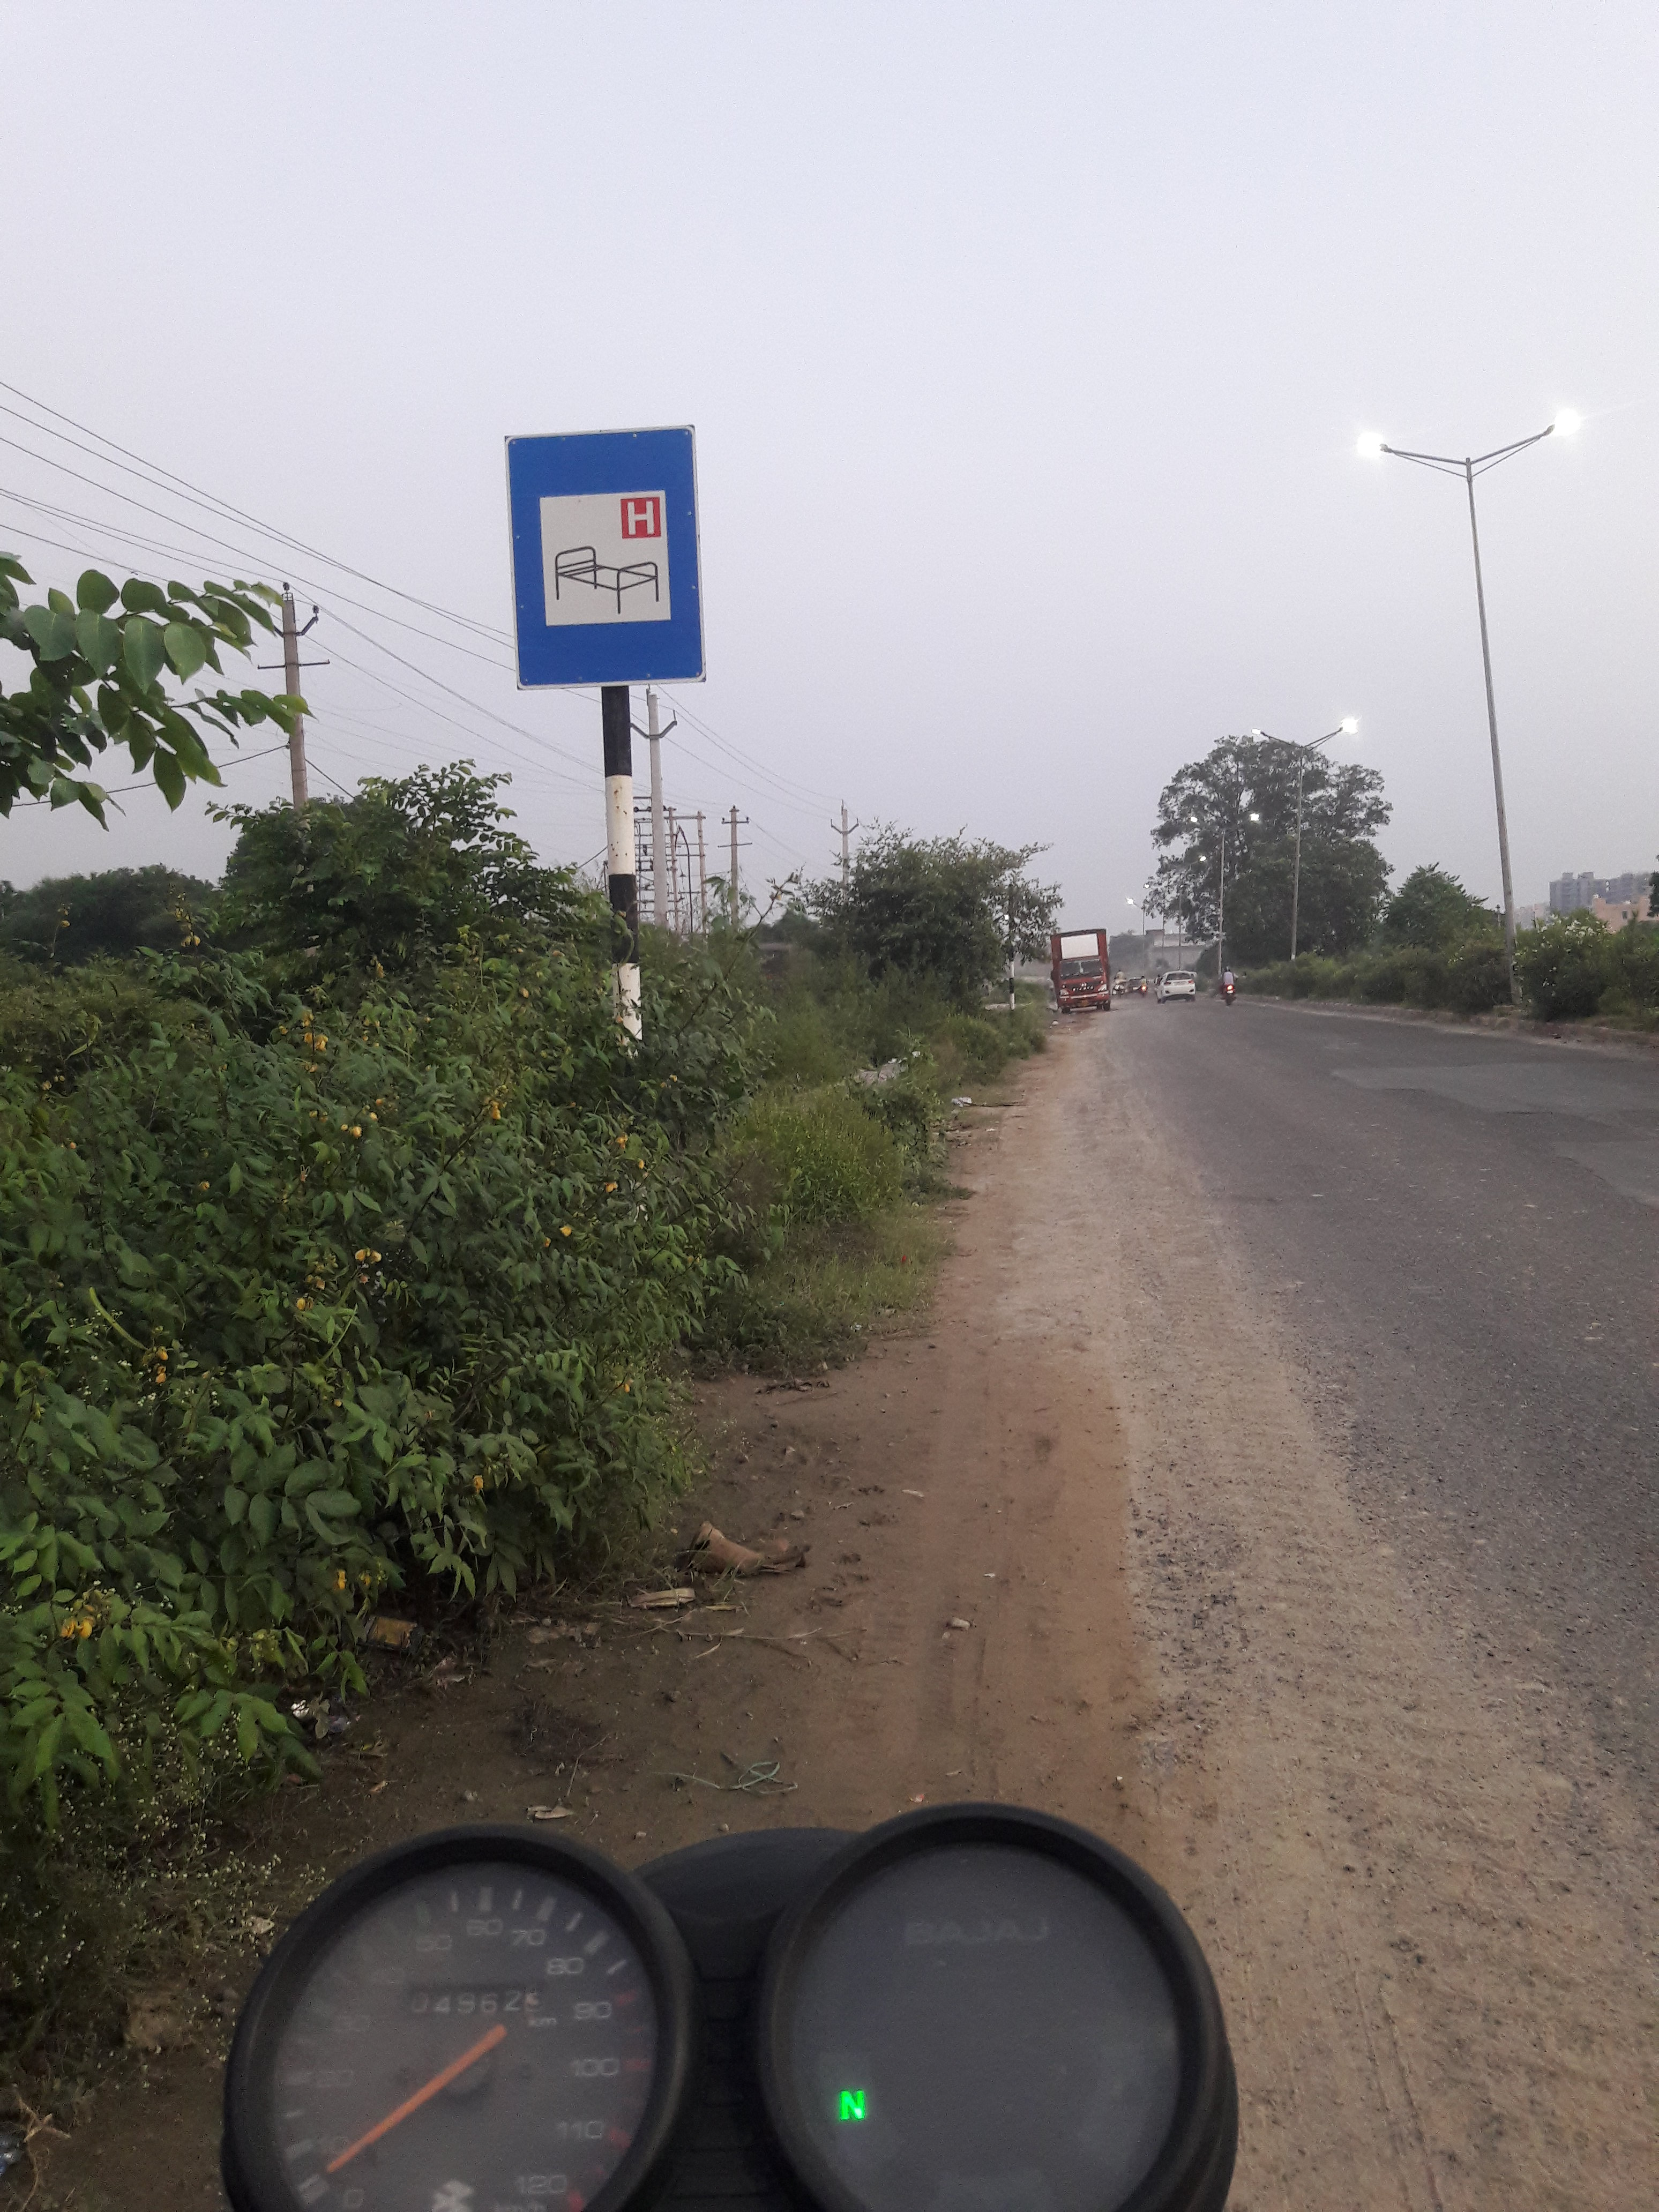traffic_sign: (511, 427, 706, 697)
